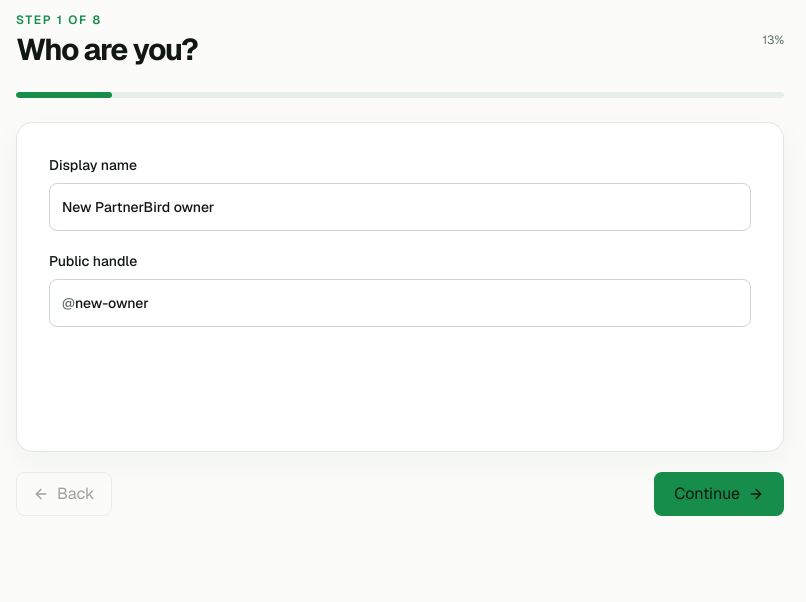
Scenario: OnboardingWizard › stops on the introduction step until starter text is replaced
What coordinates should you click on to do the following:
click the button "Continue"
I would click on:
 (719, 494)
Its box is [654,472,784,516].
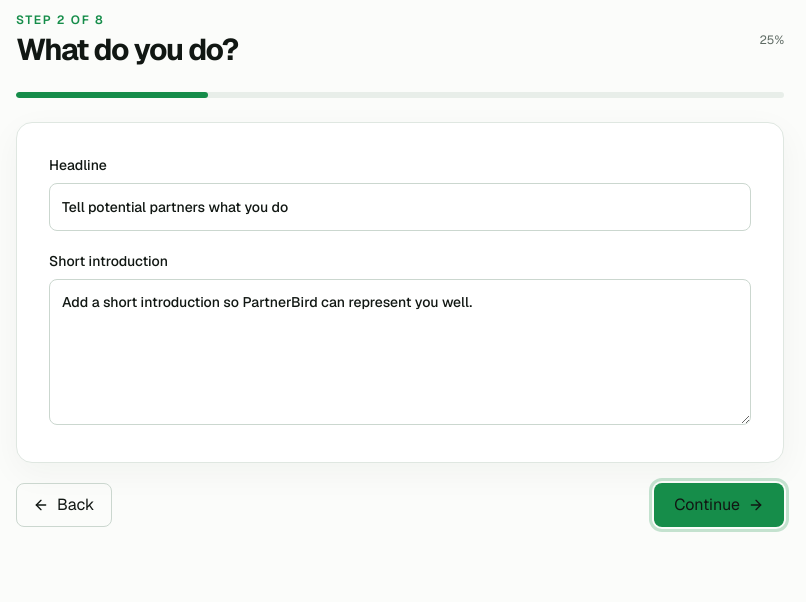
Now the heading "What do you do?" is shown, box [16,32,238,68]
What coordinates should you click on to do the following:
click the button "Continue"
I would click on:
 (719, 505)
Its box is [654,483,784,527].
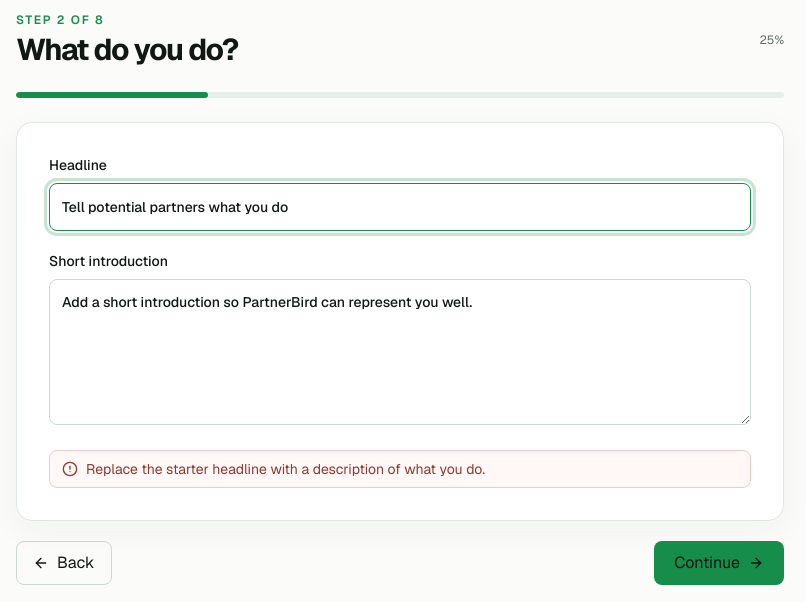
Now the heading "What do you do?" is shown, box [16,32,238,68]
Now the message shows "Replace the starter headline", box [86,460,485,478]
